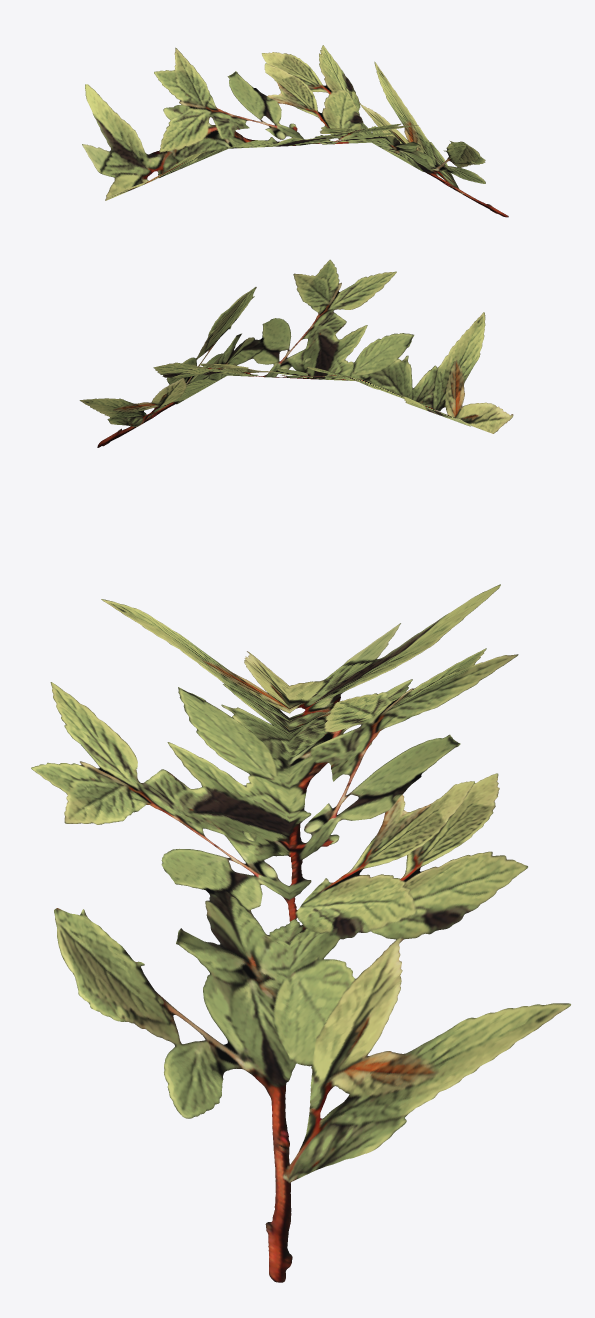
The model's file is branch1.fbx.
3 views of the same model, one above another, from view 1: azimuth 30°, elevation 25°; view 2: azimuth 150°, elevation 25°; view 3: azimuth 270°, elevation 25° (orthographic). The views are drawn at different scales.
Visible parts, largest first — view 1: Planeorijnging; view 2: Planeorijnging; view 3: Planeorijnging.
Part boxes in pixels (<box>): Planeorijnging: <box>82,45,508,217</box>; Planeorijnging: <box>79,259,513,447</box>; Planeorijnging: <box>31,584,570,1282</box>.
Size of the model in its own units: 0.7602 by 0.3708 by 0.4542.
